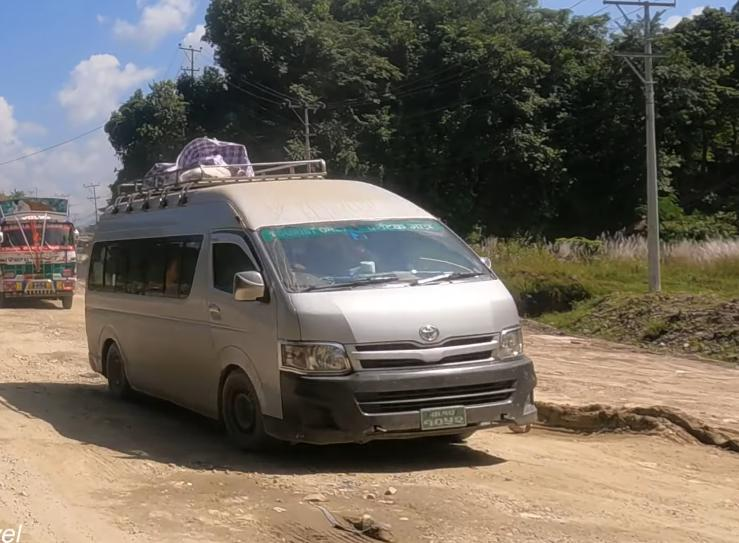micro_bus: (75, 157, 542, 458)
truck: (0, 192, 83, 312)
